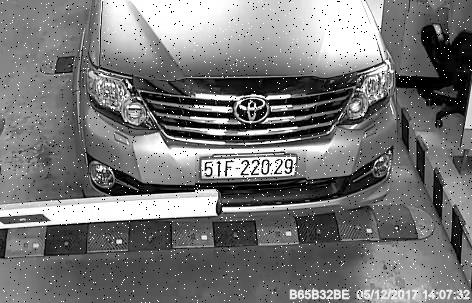License-plate: (197, 151, 309, 194)
